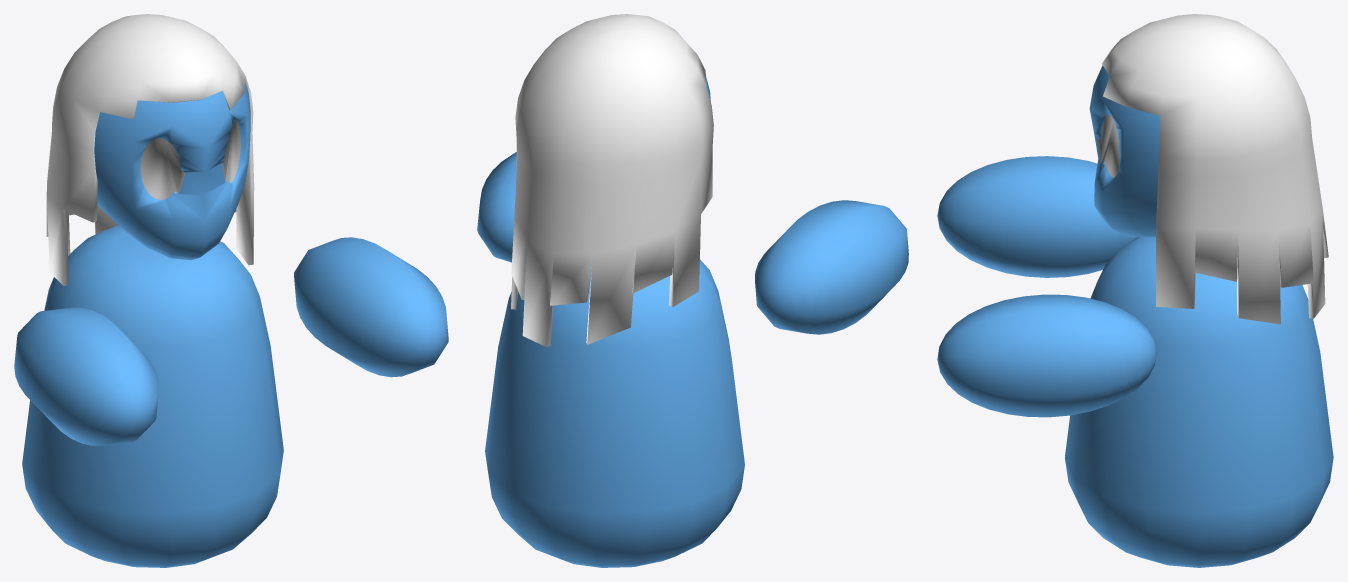
Rendered from blue_ghost.fbx.
3 renders of one model, left to right at view 1: azimuth 30°, elevation 25°; view 2: azimuth 150°, elevation 25°; view 3: azimuth 270°, elevation 25°, orthographic.
Parts seen in each view (by area): view 1: hair; view 2: hair; view 3: hair.
Boxes of the visible parts, <box> form: hair: <box>14,14,448,567</box>; hair: <box>477,14,908,567</box>; hair: <box>937,14,1333,567</box>.
Bounding box in the file's own units: 346 × 441 × 307.
